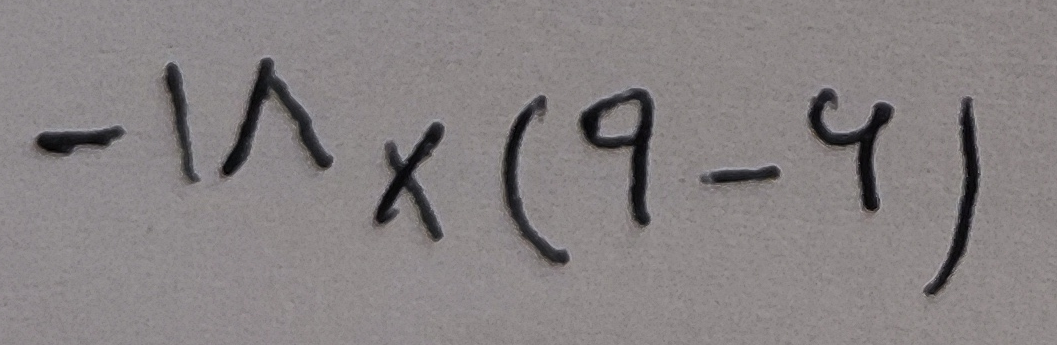character: (216, 51, 337, 187), (913, 91, 987, 302), (490, 87, 572, 272), (802, 72, 894, 221), (581, 78, 658, 255), (368, 114, 453, 247), (150, 53, 203, 185), (686, 155, 790, 204), (18, 111, 127, 157)
